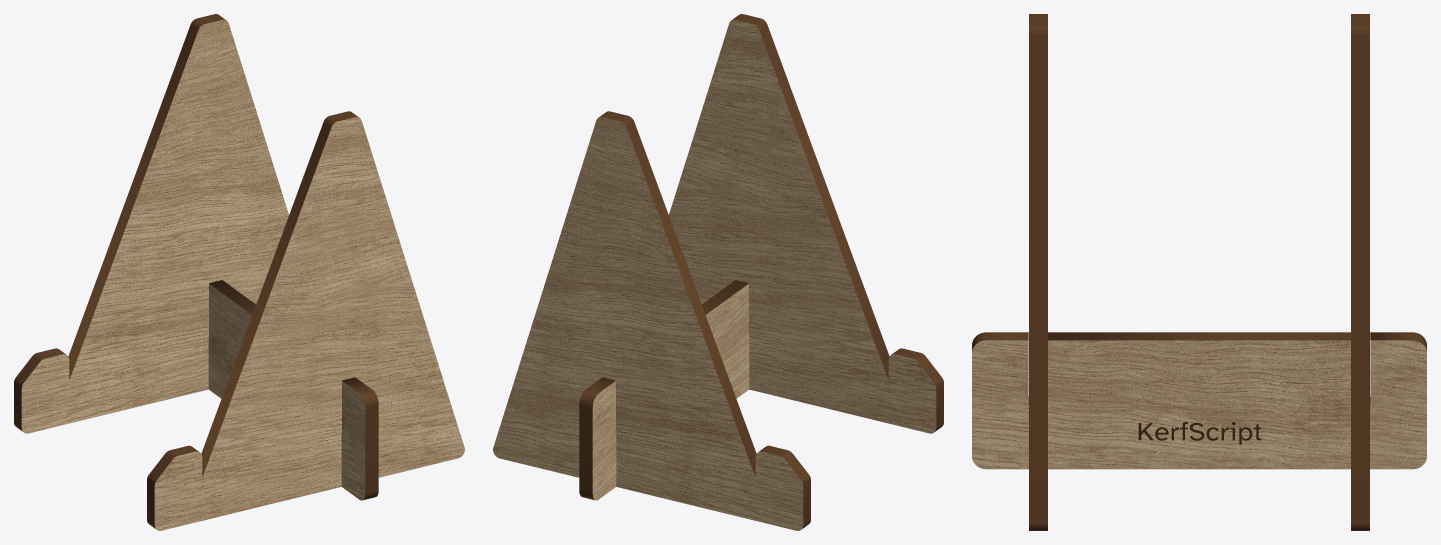
Rendered from phone-stand.glb.
3 views of the same model, side by side, from view 1: azimuth 30°, elevation 25°; view 2: azimuth 150°, elevation 25°; view 3: azimuth 270°, elevation 25° (orthographic). The views are drawn at different scales.
Parts seen in each view (by area): view 1: body0, body1, body2; view 2: body1, body0, body2; view 3: body2, body0, body1, engrave2.
Boxes of the visible parts, x1=… form: body0: x1=147, y1=111, x2=464, y2=530; body1: x1=14, y1=14, x2=288, y2=433; body2: x1=208, y1=280, x2=378, y2=500; body1: x1=493, y1=111, x2=810, y2=530; body0: x1=669, y1=14, x2=943, y2=433; body2: x1=579, y1=280, x2=749, y2=500; body2: x1=972, y1=332, x2=1426, y2=469; body0: x1=1029, y1=14, x2=1047, y2=530; body1: x1=1351, y1=14, x2=1369, y2=530; engrave2: x1=1138, y1=422, x2=1261, y2=444.
Bounding box in the file's own units: 0.0916 × 0.1034 × 0.096.
3 materials, 1 textured.
